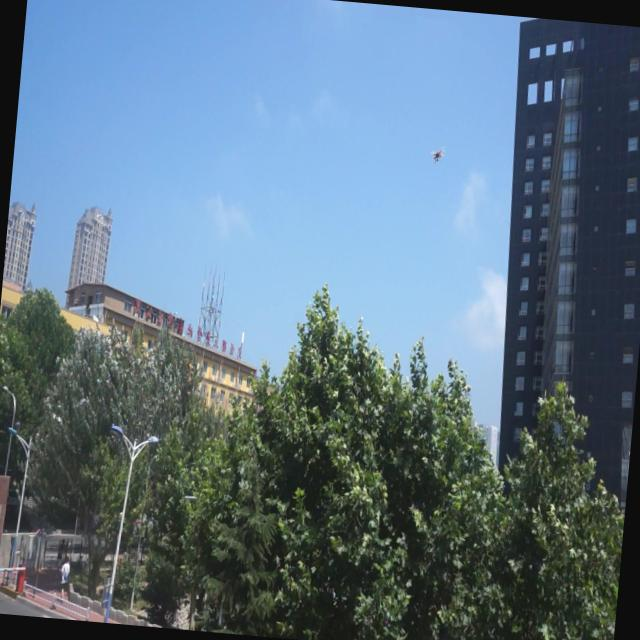drone: (424, 141, 450, 167)
